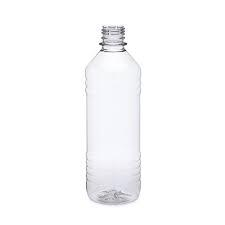Plastic bottle: (79, 18, 149, 208)
